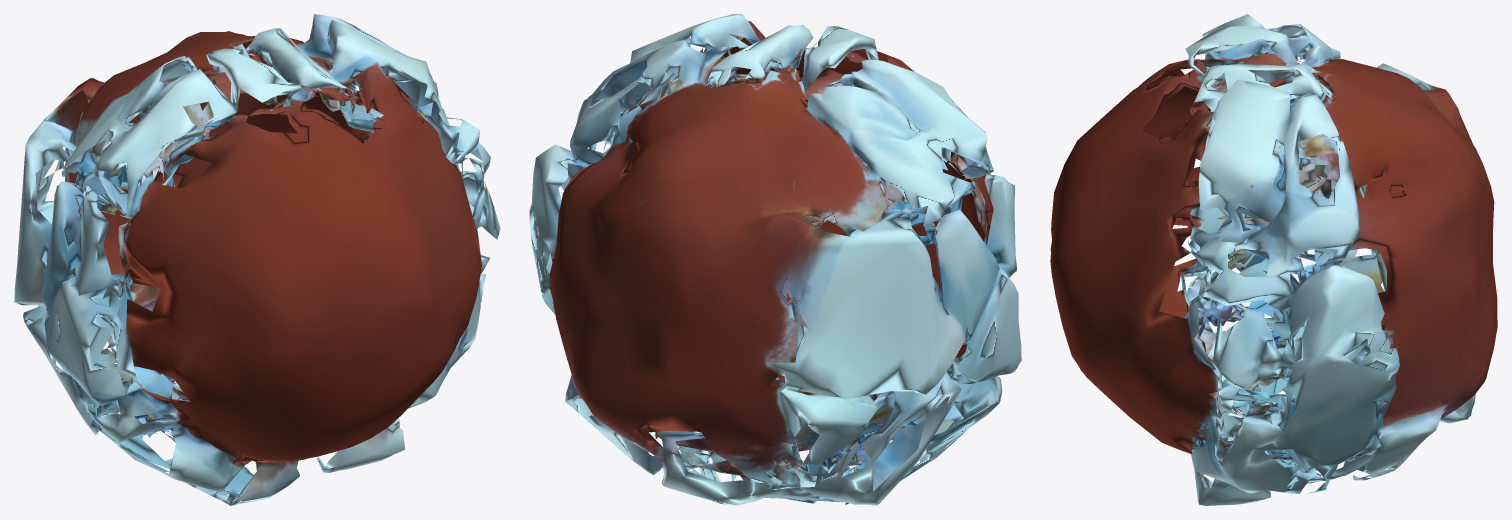
Rendered from led-valun-v-shube.glb.
3 renders of one model, left to right at view 1: azimuth 30°, elevation 25°; view 2: azimuth 150°, elevation 25°; view 3: azimuth 270°, elevation 25°, orthographic. The views are drawn at different scales.
Parts seen in each view (by area): view 1: geometry_0; view 2: geometry_0; view 3: geometry_0.
Boxes of the visible parts, x1=… form: geometry_0: x1=14, y1=14, x2=500, y2=505; geometry_0: x1=529, y1=14, x2=1021, y2=505; geometry_0: x1=1050, y1=14, x2=1497, y2=505.
Size of the model in its own units: 0.9973 by 0.9574 by 0.9058.
Materials: 1 (1 with a texture image).
